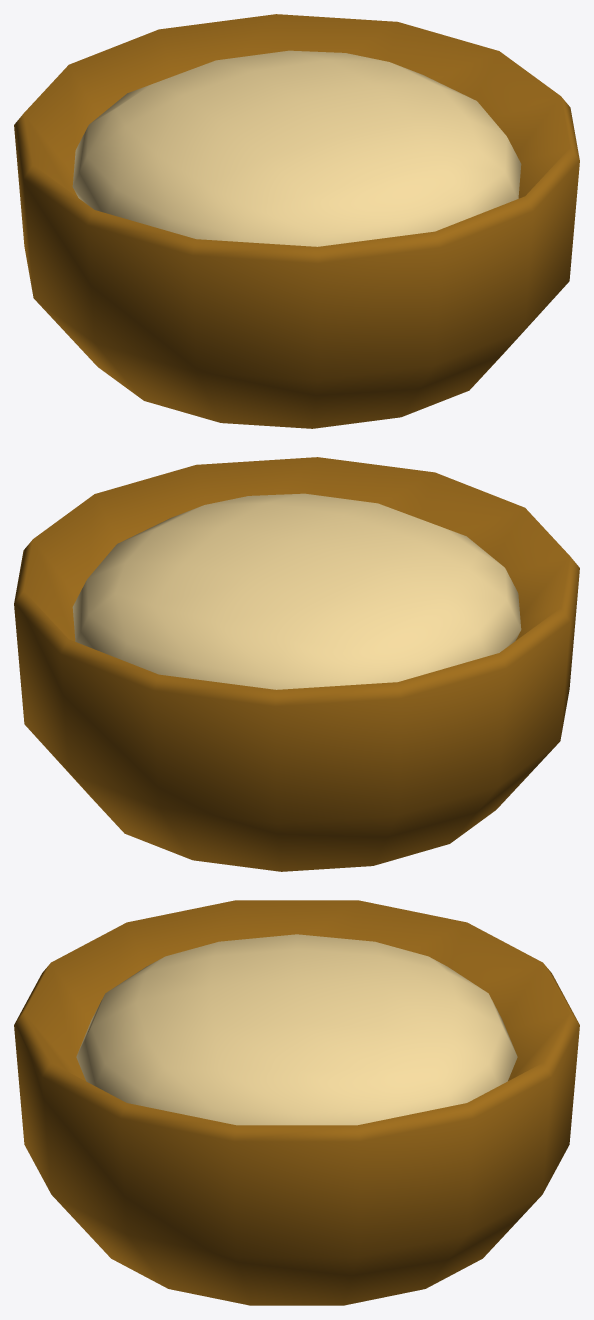
Rendered from DoughBowl.fbx.
The picture shows the model from 3 angles, top to bottom: view 1: azimuth 30°, elevation 25°; view 2: azimuth 150°, elevation 25°; view 3: azimuth 270°, elevation 25°; orthographic projection.
Parts seen in each view (by area): view 1: Cylinder.002; view 2: Cylinder.002; view 3: Cylinder.002.
Boxes of the visible parts, <box> form: Cylinder.002: <box>14,14,579,428</box>; Cylinder.002: <box>14,457,579,871</box>; Cylinder.002: <box>14,900,579,1305</box>.
Bounding box in the file's own units: 195 × 200 × 108.
